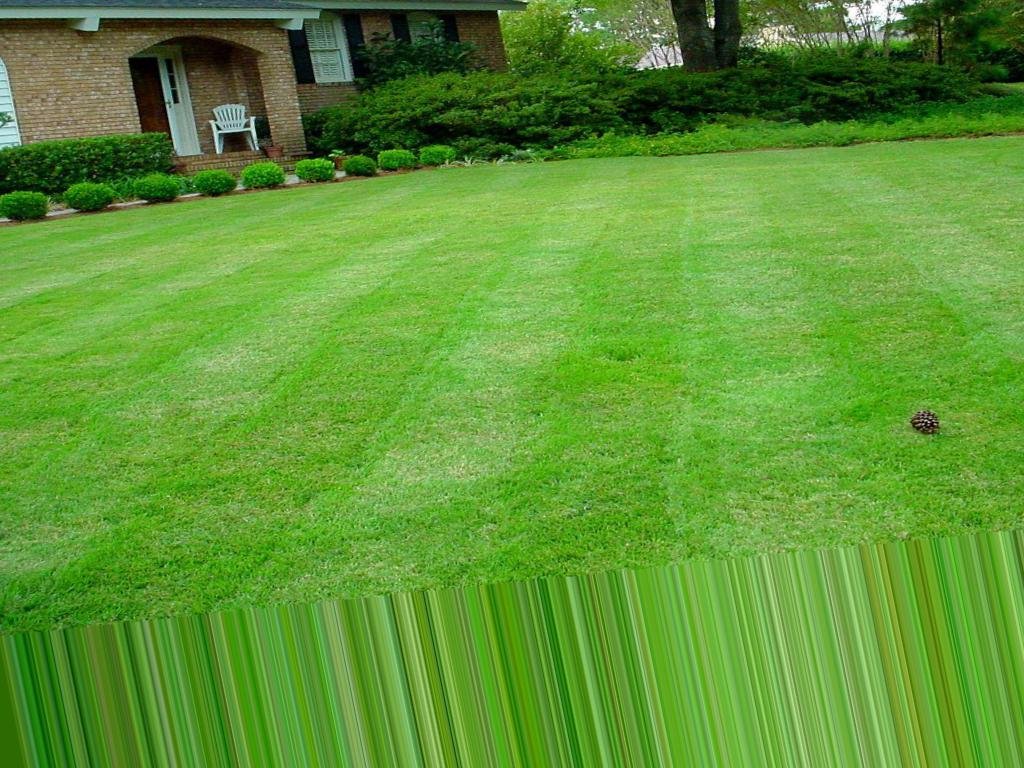patch: (919, 414, 935, 426)
